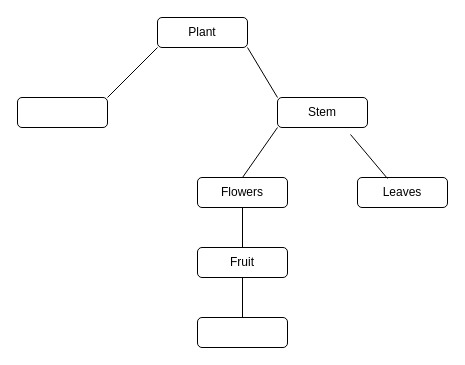
Some shapes in this 465 by 365 pixel diagram are drawn without their labels. The box of each missing label's shape, as (x1, y1, x2, y2) in pixels:
Root: (16, 96, 108, 128)
Seed: (196, 316, 288, 348)
